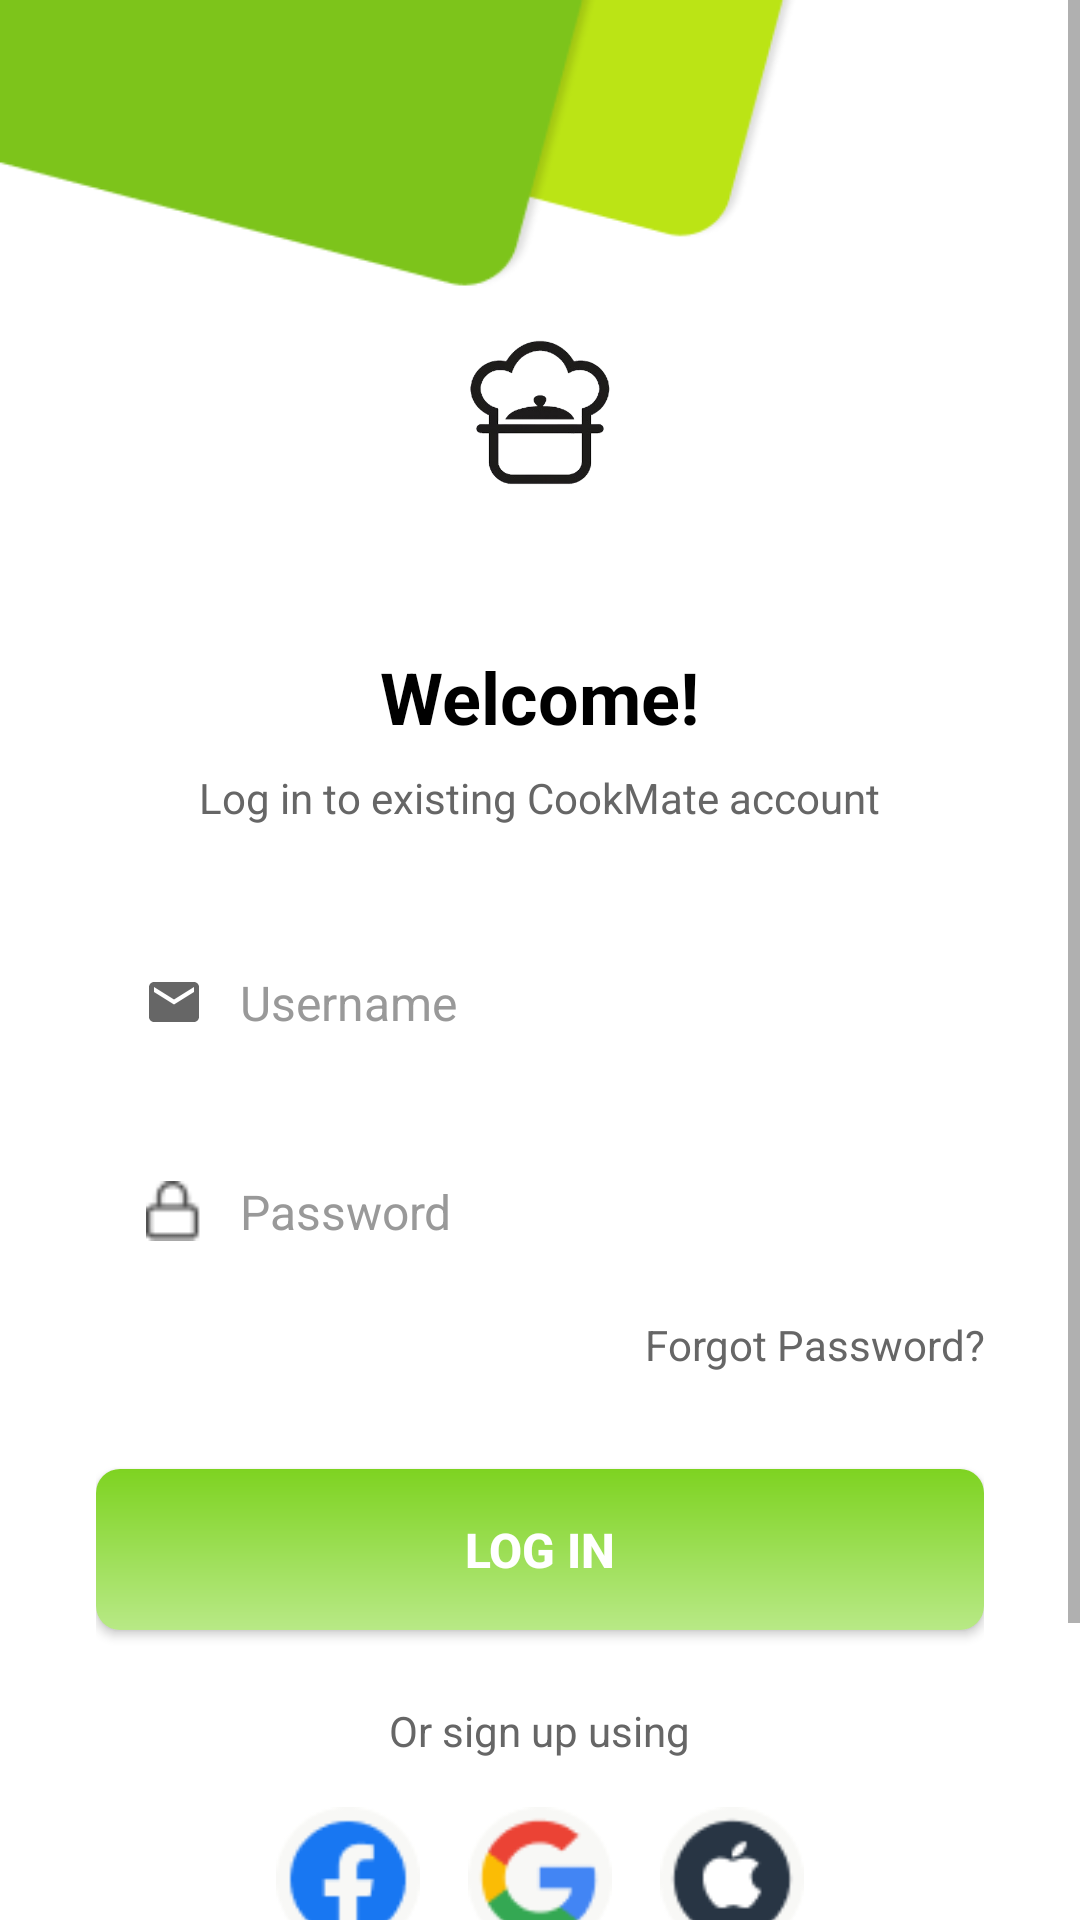

Icons on this 1080w x 1920h Android screen, each with its box as [x1,y1,x2,y2]:
lock: [146,1181,200,1241]
